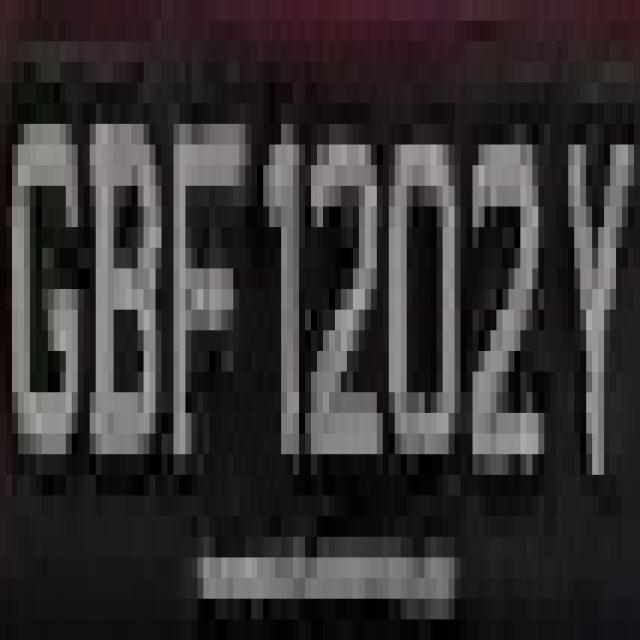0: (371, 103, 472, 537)
1: (257, 42, 311, 496)
2: (449, 103, 538, 578), (299, 103, 377, 558)
B: (78, 41, 173, 454)
F: (162, 103, 257, 537)
G: (6, 42, 78, 496)
Y: (544, 62, 628, 578)
